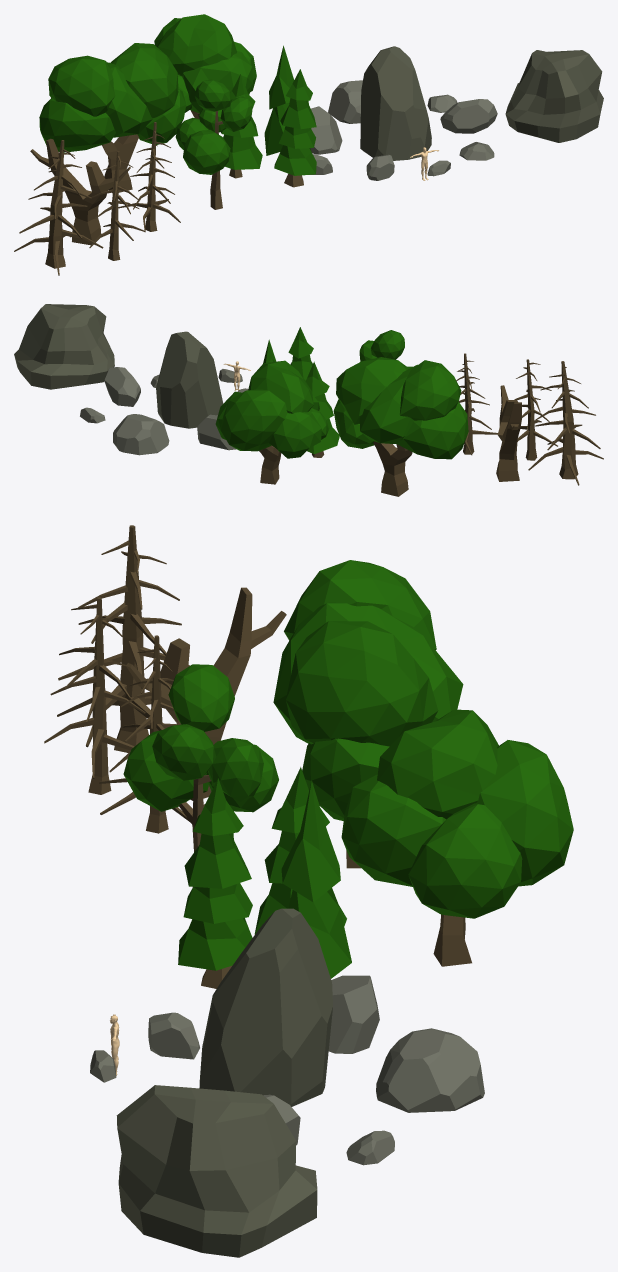
The model's file is Rock.fbx.
The picture shows the model from 3 angles, top to bottom: view 1: azimuth 30°, elevation 25°; view 2: azimuth 150°, elevation 25°; view 3: azimuth 270°, elevation 25°; orthographic projection. The views are drawn at different scales.
Visible parts, largest first — view 1: OakTree1, BigRock1, Cube.000, OakTree3, OakTree2, SpruceTree3, DeadOak1, DeadSpruce3, SpruceTree1, SpruceTree2.001, DeadSpruce1, Cube.007 (+6 smaller); view 2: OakTree1, OakTree3, BigRock1, Cube.000, DeadSpruce3, Cube.009, DeadOak1, SpruceTree1, DeadSpruce2, Cube.007, OakTree2, DeadSpruce1 (+3 smaller); view 3: OakTree3, OakTree1, BigRock1, Cube.000, OakTree2, SpruceTree3, Cube.009, SpruceTree2.001, DeadSpruce3, DeadOak1, DeadSpruce2, Cube.002 (+4 smaller).
Boxes of the visible parts, box(x1,y1,x2,y2) form: OakTree1: box(39, 43, 186, 193); BigRock1: box(505, 50, 603, 142); Cube.000: box(360, 46, 431, 160); OakTree3: box(154, 14, 256, 118); OakTree2: box(175, 79, 252, 209); SpruceTree3: box(274, 69, 316, 187); DeadOak1: box(30, 138, 130, 245); DeadSpruce3: box(14, 140, 103, 275); SpruceTree1: box(220, 74, 262, 178); SpruceTree2.001: box(264, 45, 293, 155); DeadSpruce1: box(118, 122, 180, 231); Cube.007: box(440, 99, 497, 133); OakTree1: box(333, 357, 468, 496); OakTree3: box(215, 360, 328, 484); BigRock1: box(14, 304, 114, 389); Cube.000: box(156, 331, 223, 428); DeadSpruce3: box(528, 361, 603, 485); Cube.009: box(113, 414, 169, 455); DeadOak1: box(496, 385, 521, 481); SpruceTree1: box(305, 361, 339, 457); DeadSpruce2: box(514, 359, 557, 460); Cube.007: box(104, 367, 140, 406); OakTree2: box(359, 330, 412, 368); DeadSpruce1: box(456, 353, 497, 455); OakTree3: box(341, 709, 573, 966); OakTree1: box(273, 560, 463, 868); BigRock1: box(116, 1085, 317, 1257); Cube.000: box(199, 908, 332, 1106); OakTree2: box(123, 664, 278, 887); SpruceTree3: box(178, 778, 252, 988); Cube.009: box(376, 1028, 484, 1112); SpruceTree2.001: box(281, 780, 351, 978); DeadSpruce3: box(57, 525, 189, 752); DeadOak1: box(126, 587, 286, 800); DeadSpruce2: box(44, 597, 145, 794); Cube.002: box(328, 975, 379, 1053).
Bounding box in the file's own units: 3803 × 852 × 1556.
